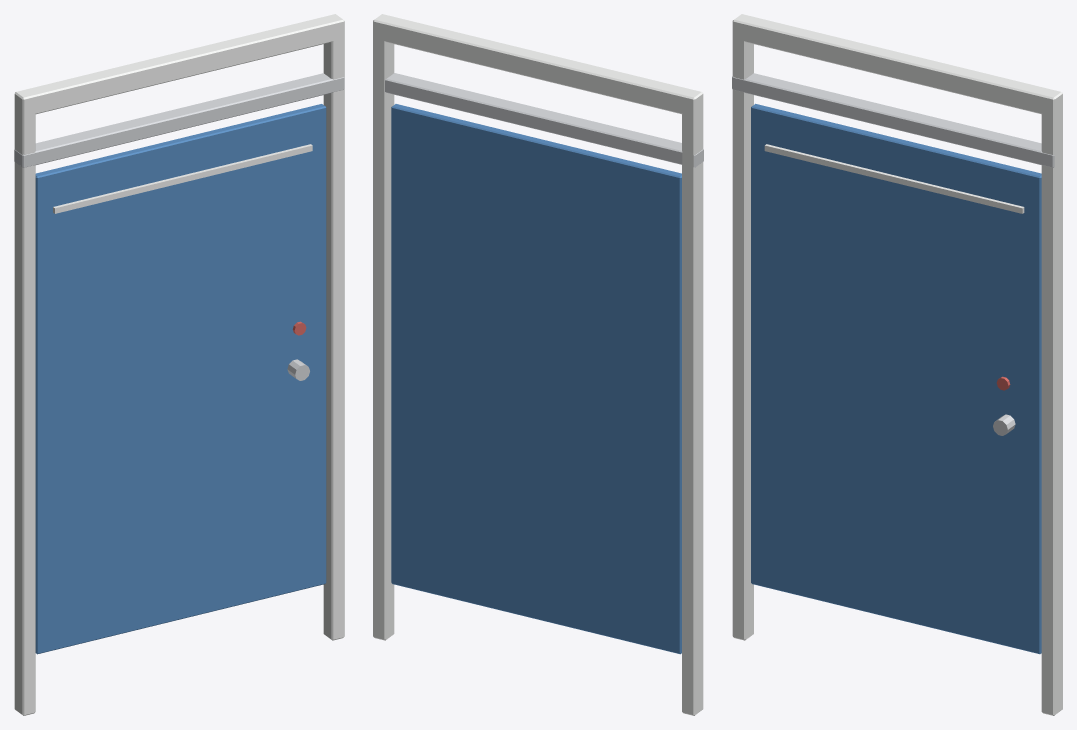
File: community-sports-hall-and-changing-rooms-cubicle-door--b15cd857__35110.glb
3 renders of one model, left to right at view 1: azimuth 30°, elevation 25°; view 2: azimuth 150°, elevation 25°; view 3: azimuth 330°, elevation 25°, orthographic.
Visible parts, largest first — view 1: cubicle-door/blue, cubicle-door-module, cubicle-door/white; view 2: cubicle-door/blue, cubicle-door-module; view 3: cubicle-door/blue, cubicle-door-module, cubicle-door/white.
Part boxes in pixels (x1,y1,x2,y2): cubicle-door/blue: [35, 104, 326, 654]; cubicle-door-module: [14, 14, 344, 715]; cubicle-door/white: [53, 144, 312, 213]; cubicle-door/blue: [391, 104, 681, 654]; cubicle-door-module: [373, 14, 703, 715]; cubicle-door/blue: [751, 103, 1041, 654]; cubicle-door-module: [732, 14, 1062, 715]; cubicle-door/white: [764, 144, 1024, 213].
Size of the model in its own units: 1.2 by 2.2 by 0.0959.
